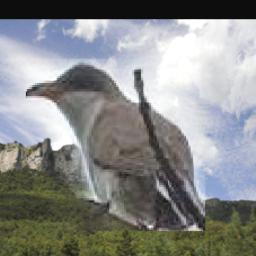Cuckoo: (25, 59, 204, 231)
